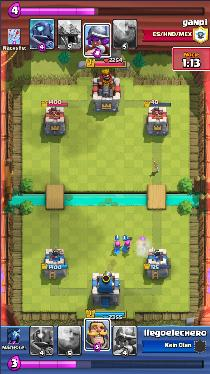ally_archer: (112, 240, 122, 253), (122, 239, 131, 252)
